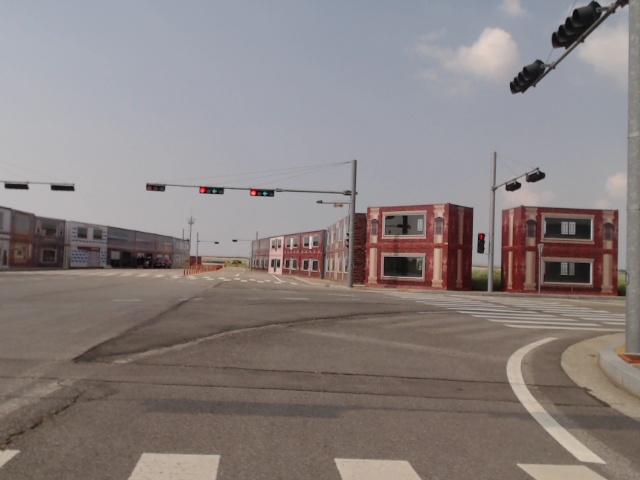left_green_4: (251, 189, 274, 197), (200, 187, 223, 194)
